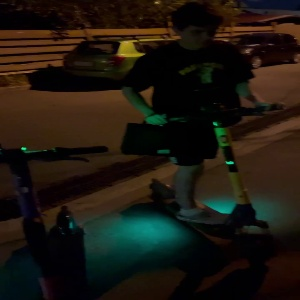human on a scooter: (117, 1, 289, 268)
